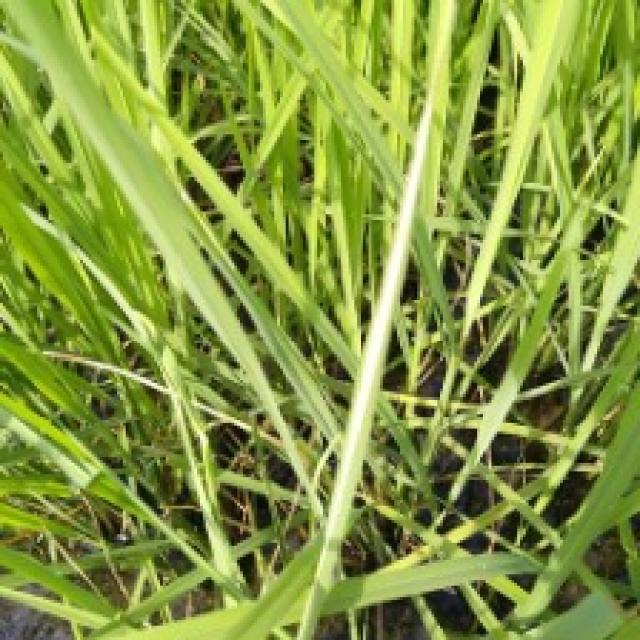Rice___Bacterial_Leaf_Blight: (295, 101, 429, 637)
